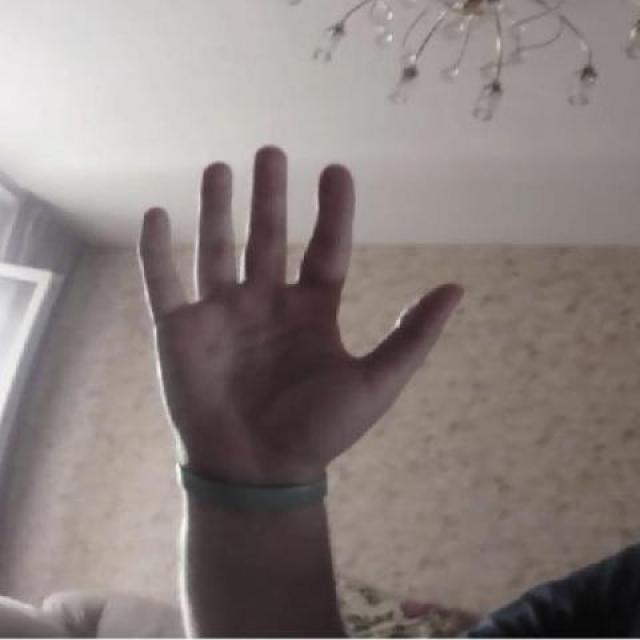Open Hand: (138, 145, 471, 494)
